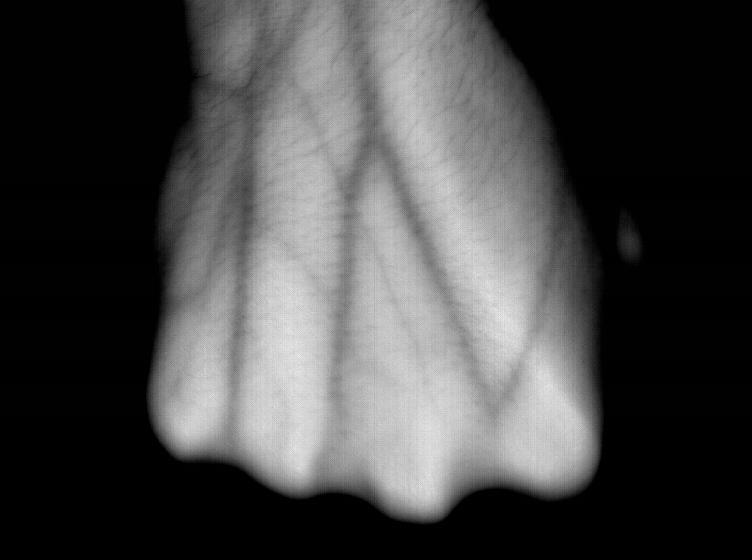Vein: (329, 13, 494, 402)
